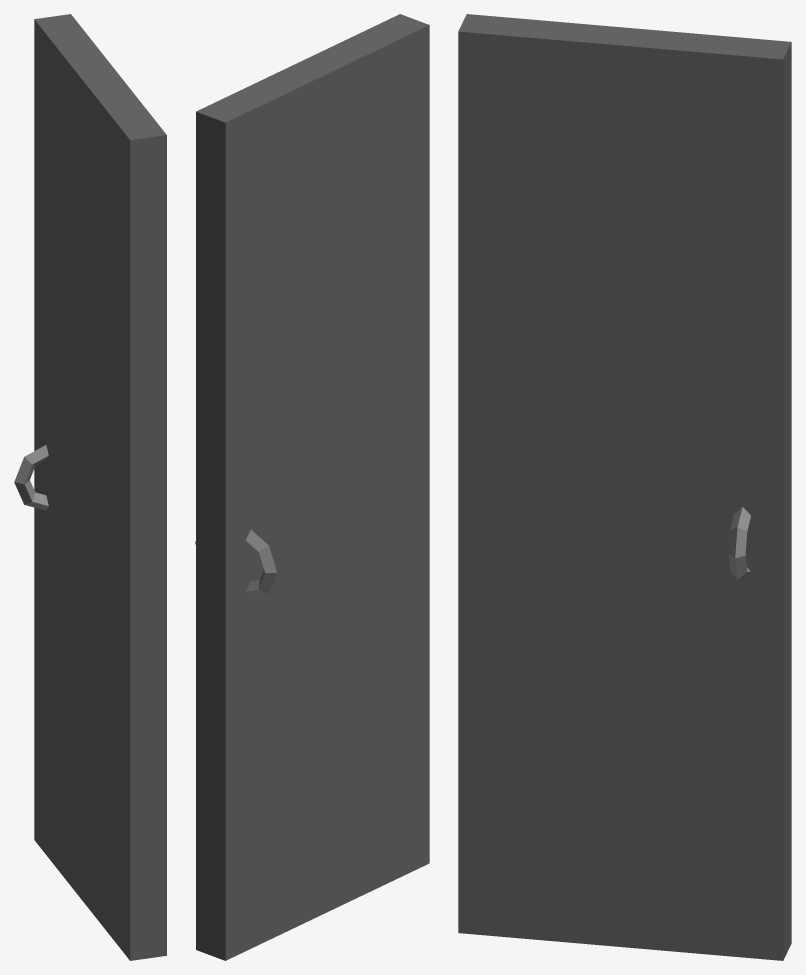
The model's file is DoorV1.gltf.
The picture shows the model from 3 angles, left to right: view 1: azimuth 30°, elevation 25°; view 2: azimuth 150°, elevation 25°; view 3: azimuth 270°, elevation 25°; orthographic projection. The views are drawn at different scales.
Visible parts, largest first — view 1: Cube.001, Torus; view 2: Cube.001, Torus; view 3: Cube.001, Torus.
Part boxes in pixels (bbox=[...]): Cube.001: bbox=[34, 14, 166, 960]; Torus: bbox=[14, 445, 48, 510]; Cube.001: bbox=[196, 14, 429, 960]; Torus: bbox=[195, 530, 276, 596]; Cube.001: bbox=[458, 14, 791, 960]; Torus: bbox=[728, 506, 750, 579].
Size of the model in its own units: 0.4107 by 3 by 1.01.
Materials: 1 (1 with a texture image).
